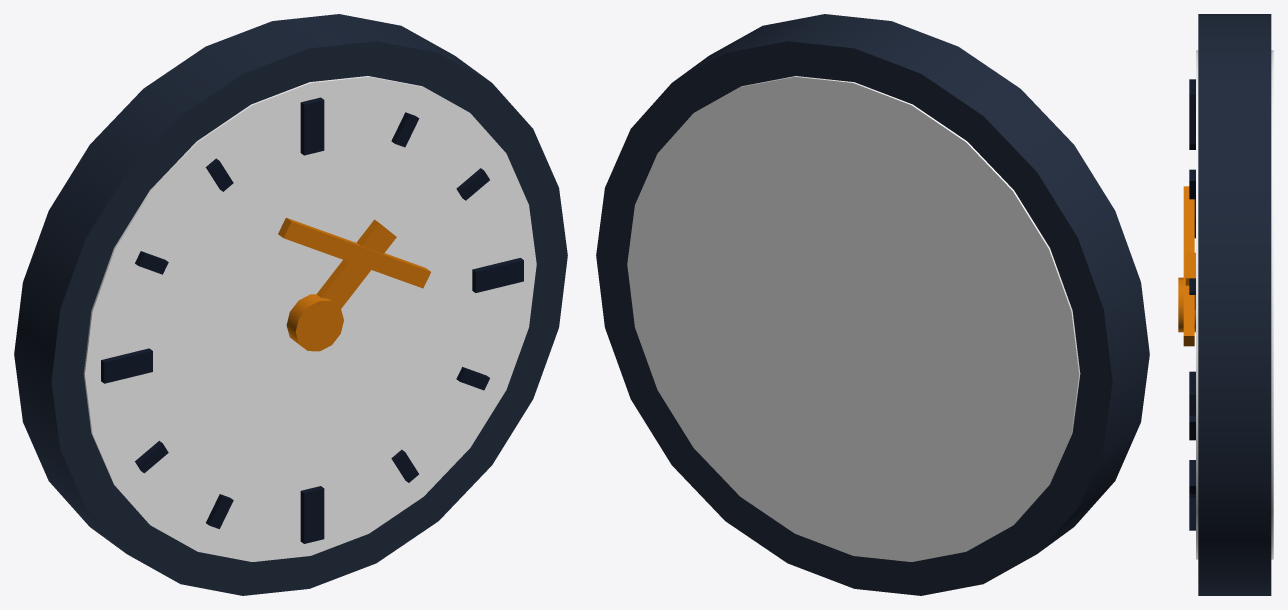
The model's file is station_clock.glb.
3 renders of one model, left to right at view 1: azimuth 30°, elevation 25°; view 2: azimuth 150°, elevation 25°; view 3: azimuth 270°, elevation 25°, orthographic. The views are drawn at different scales.
Visible parts, largest first — view 1: station_clock; view 2: station_clock; view 3: station_clock.
Boxes of the visible parts, <box> form: station_clock: <box>14,14,567,595</box>; station_clock: <box>596,14,1149,595</box>; station_clock: <box>1178,14,1273,595</box>.
Bounding box in the file's own units: 0.64 × 0.64 × 0.1045.
